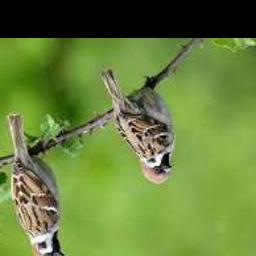Sparrow: (102, 69, 174, 185), (7, 113, 63, 256)
